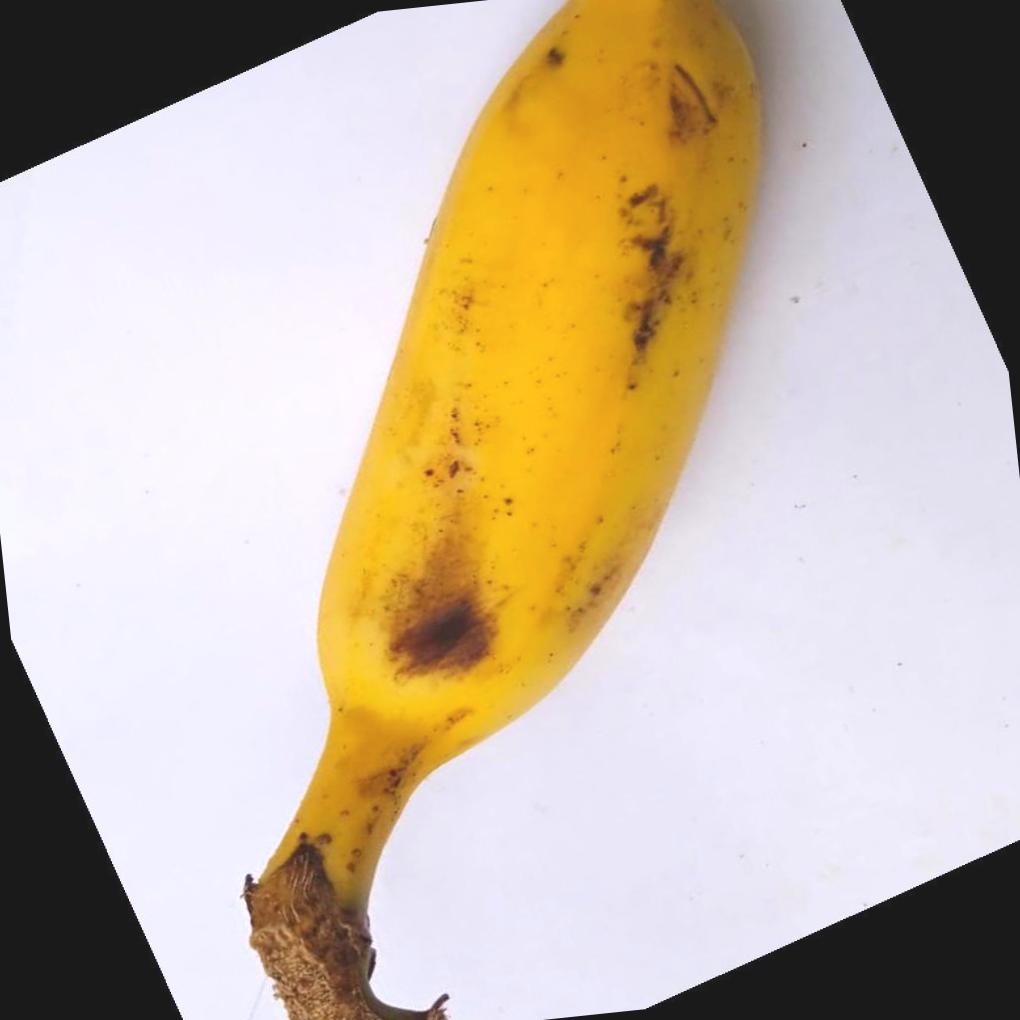Banana Ripe: (135, 0, 950, 1020)
